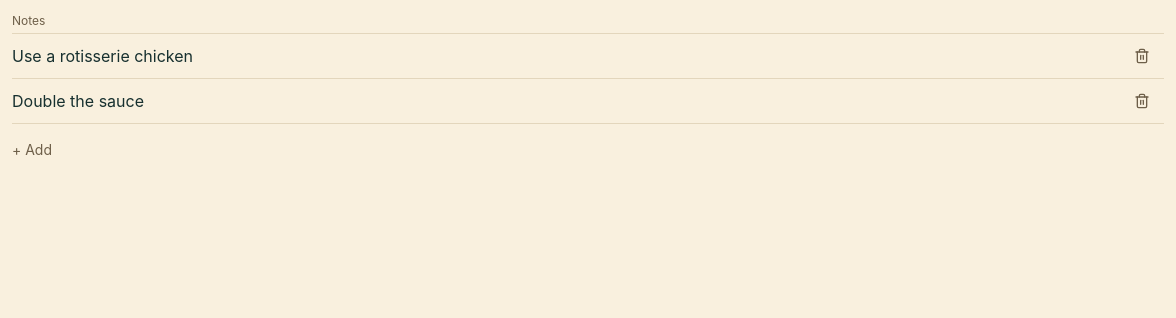
Scenario: NoteList › saves an edit in place
The width and height of the screenshot is (1176, 318).
Step 1. Press the mouse on the button "Double the sauce" → (78, 101), box [12,79,1112,123]
Wait 500 ms
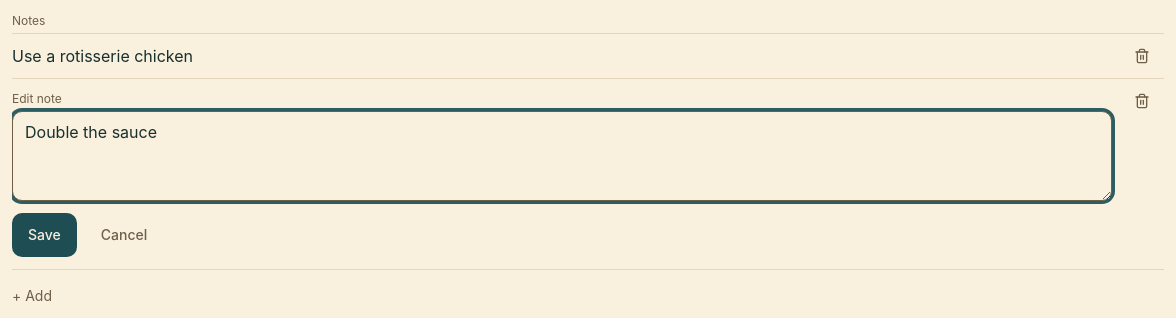
Step 2. Replace the text in the text box labelled "Edit note" with "Triple the sauce" → (562, 156), box [12,111,1112,201]
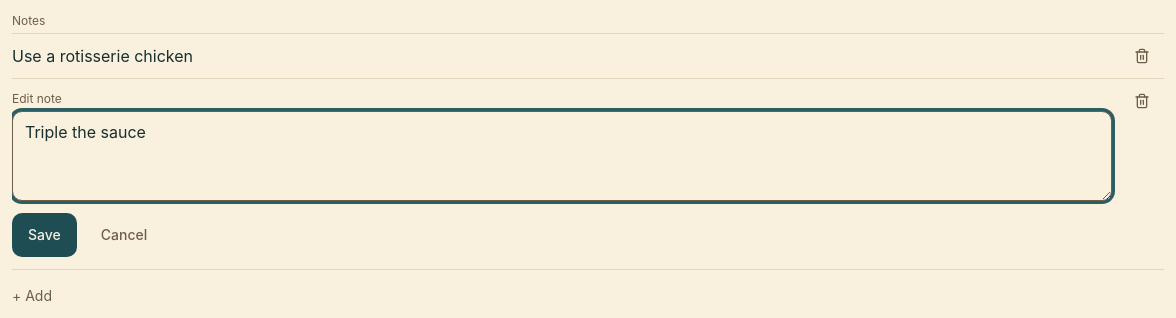
Step 3. Click the button "Save" → (44, 235), box [12,213,77,257]
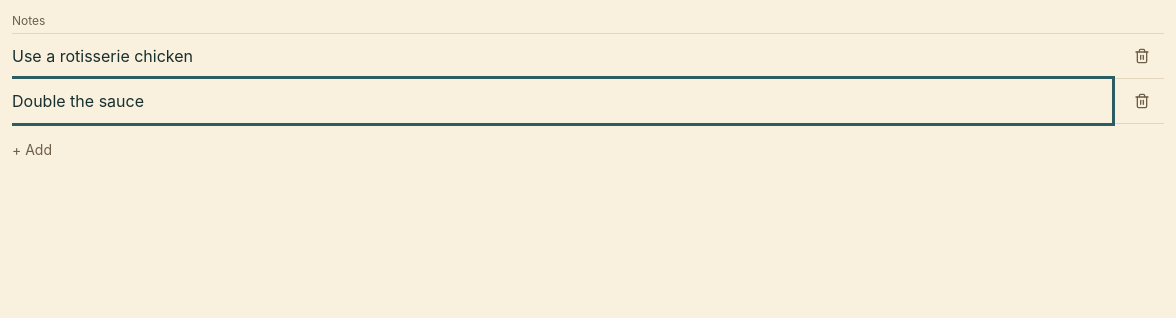
Now the label "Edit note" is gone
